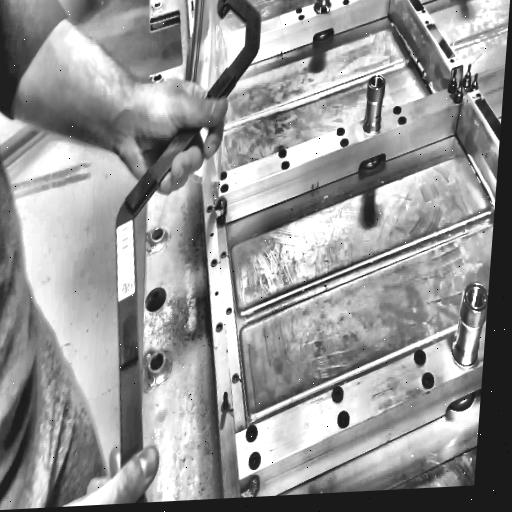busbar: (113, 0, 266, 504)
